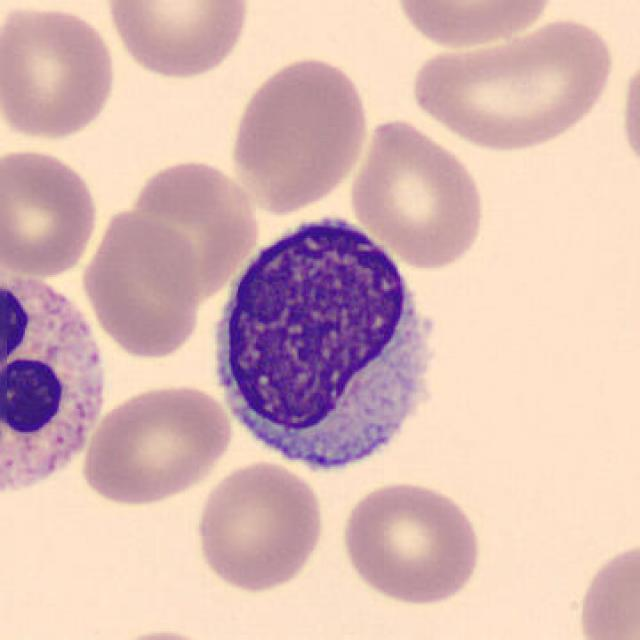Lymphocyte: (197, 203, 457, 487)
Neutrophil: (0, 259, 112, 510)
RBC: (402, 12, 618, 155), (226, 51, 372, 215), (346, 116, 491, 272), (78, 379, 235, 508), (122, 156, 262, 298), (78, 205, 204, 362), (336, 478, 485, 606), (190, 458, 329, 594), (0, 0, 119, 143), (0, 144, 101, 280), (103, 0, 254, 81), (388, 0, 560, 51), (571, 534, 638, 640), (615, 46, 640, 183), (94, 626, 230, 640)
